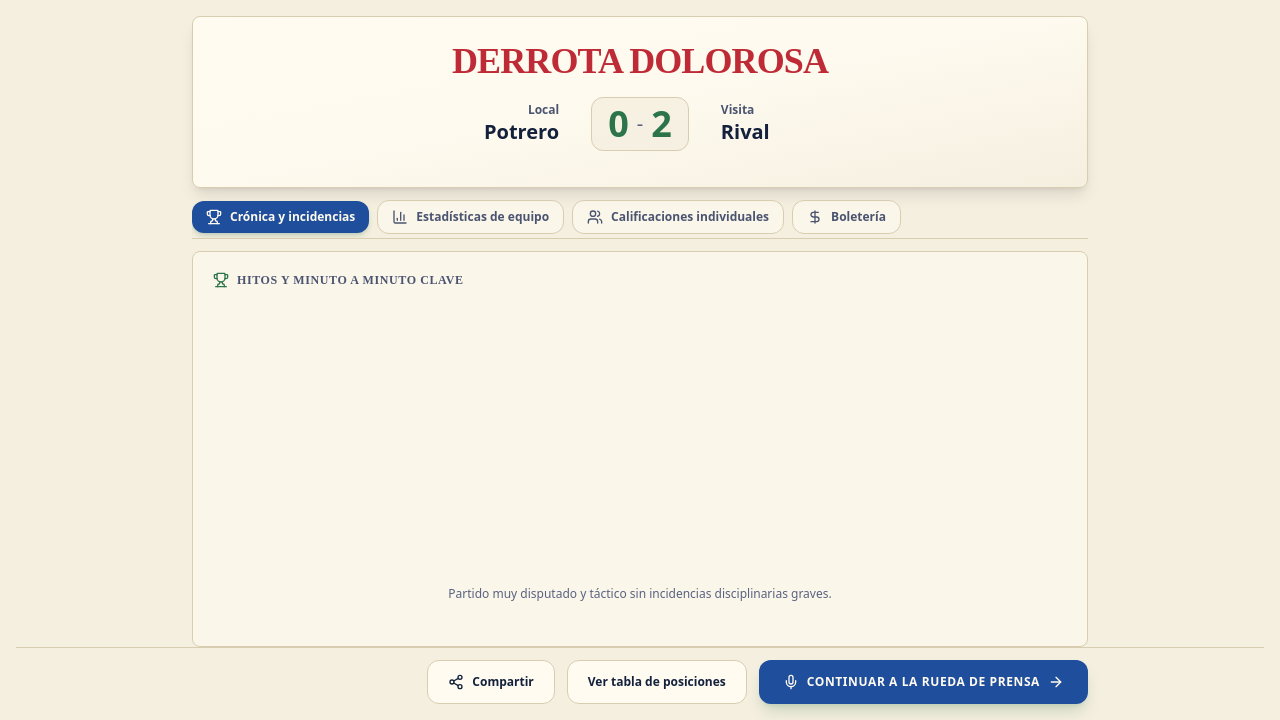
it: rueda de prensa después del partido › se puede omitir: avisa la multa, la cobra y muestra lo que pasó
Click the button "Continuar a la rueda de prensa": (923, 682) x1=759 y1=660 x2=1088 y2=704
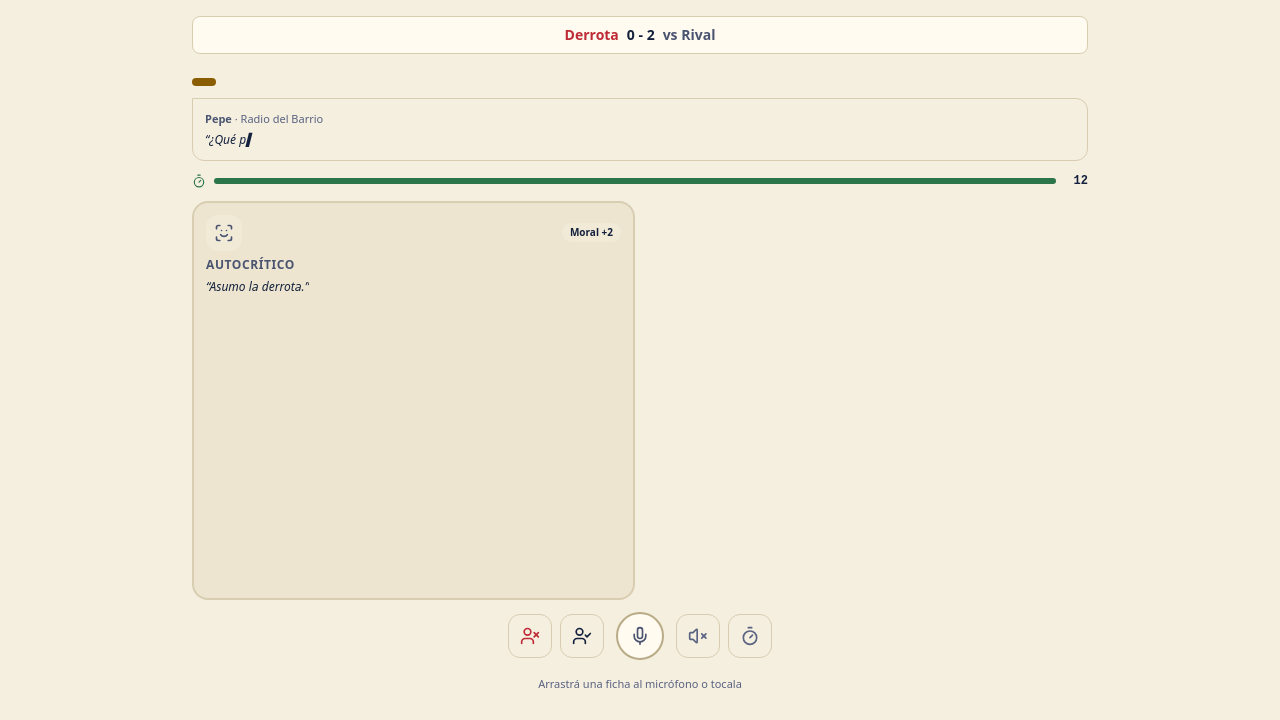
Click the button named "No presentarme": (530, 636) x1=508 y1=614 x2=552 y2=658
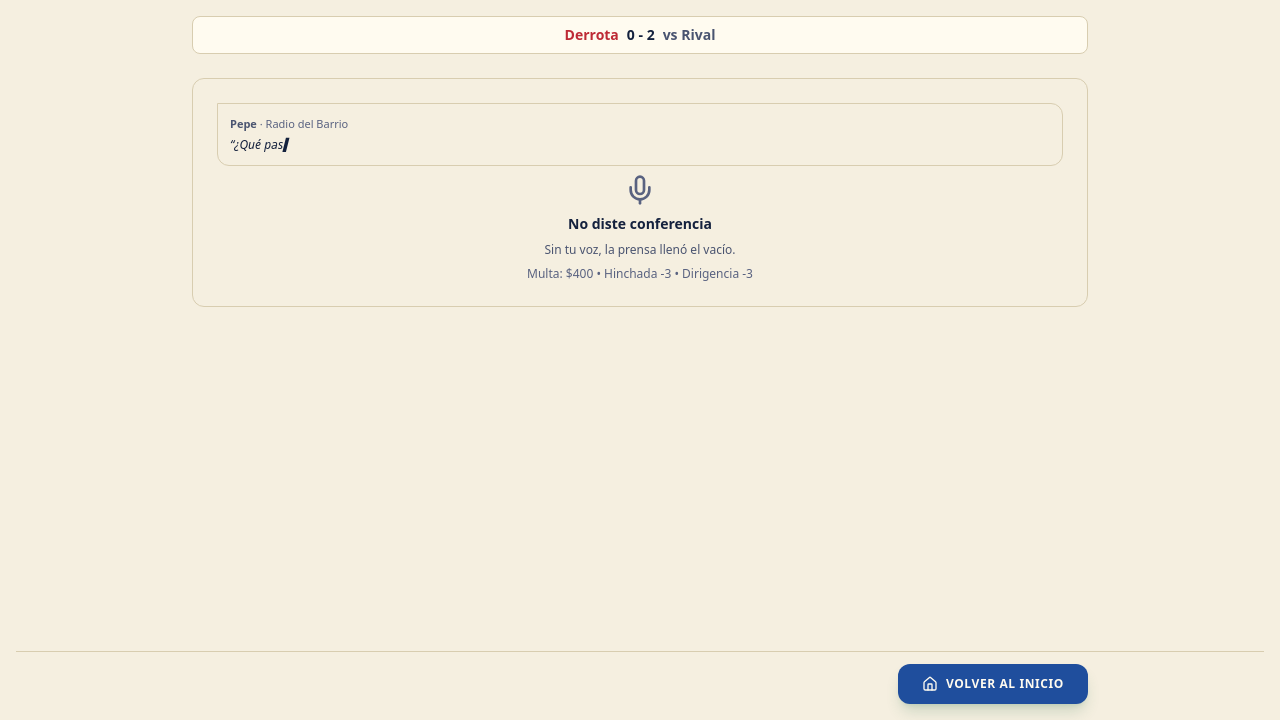
Expected: the text "Sin tu voz, la prensa llenó el vacío." is shown, x1=544 y1=240 x2=736 y2=258
Expected: the text "Multa: $400 • Hinchada -3 • Dirigencia -3" is shown, x1=527 y1=264 x2=753 y2=282
